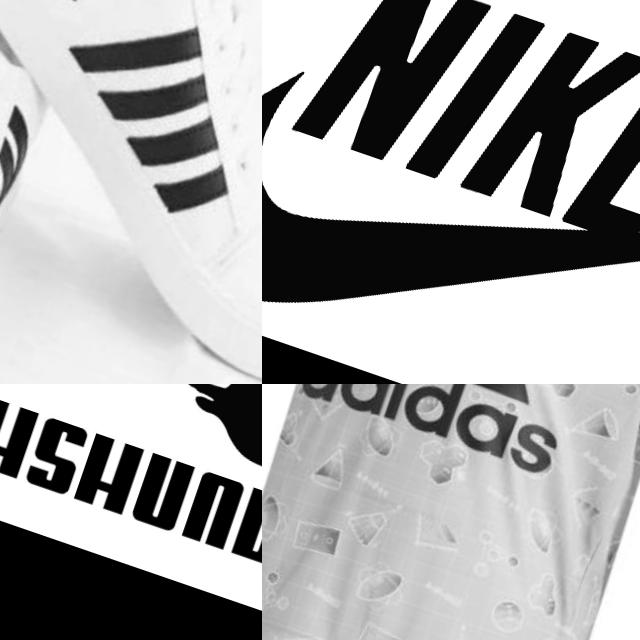ADIDAS_fake: (19, 0, 262, 264)
ADIDAS_original: (284, 384, 625, 515)
NIKE_original: (262, 0, 640, 384)
PUMA_fake: (0, 384, 262, 617)
